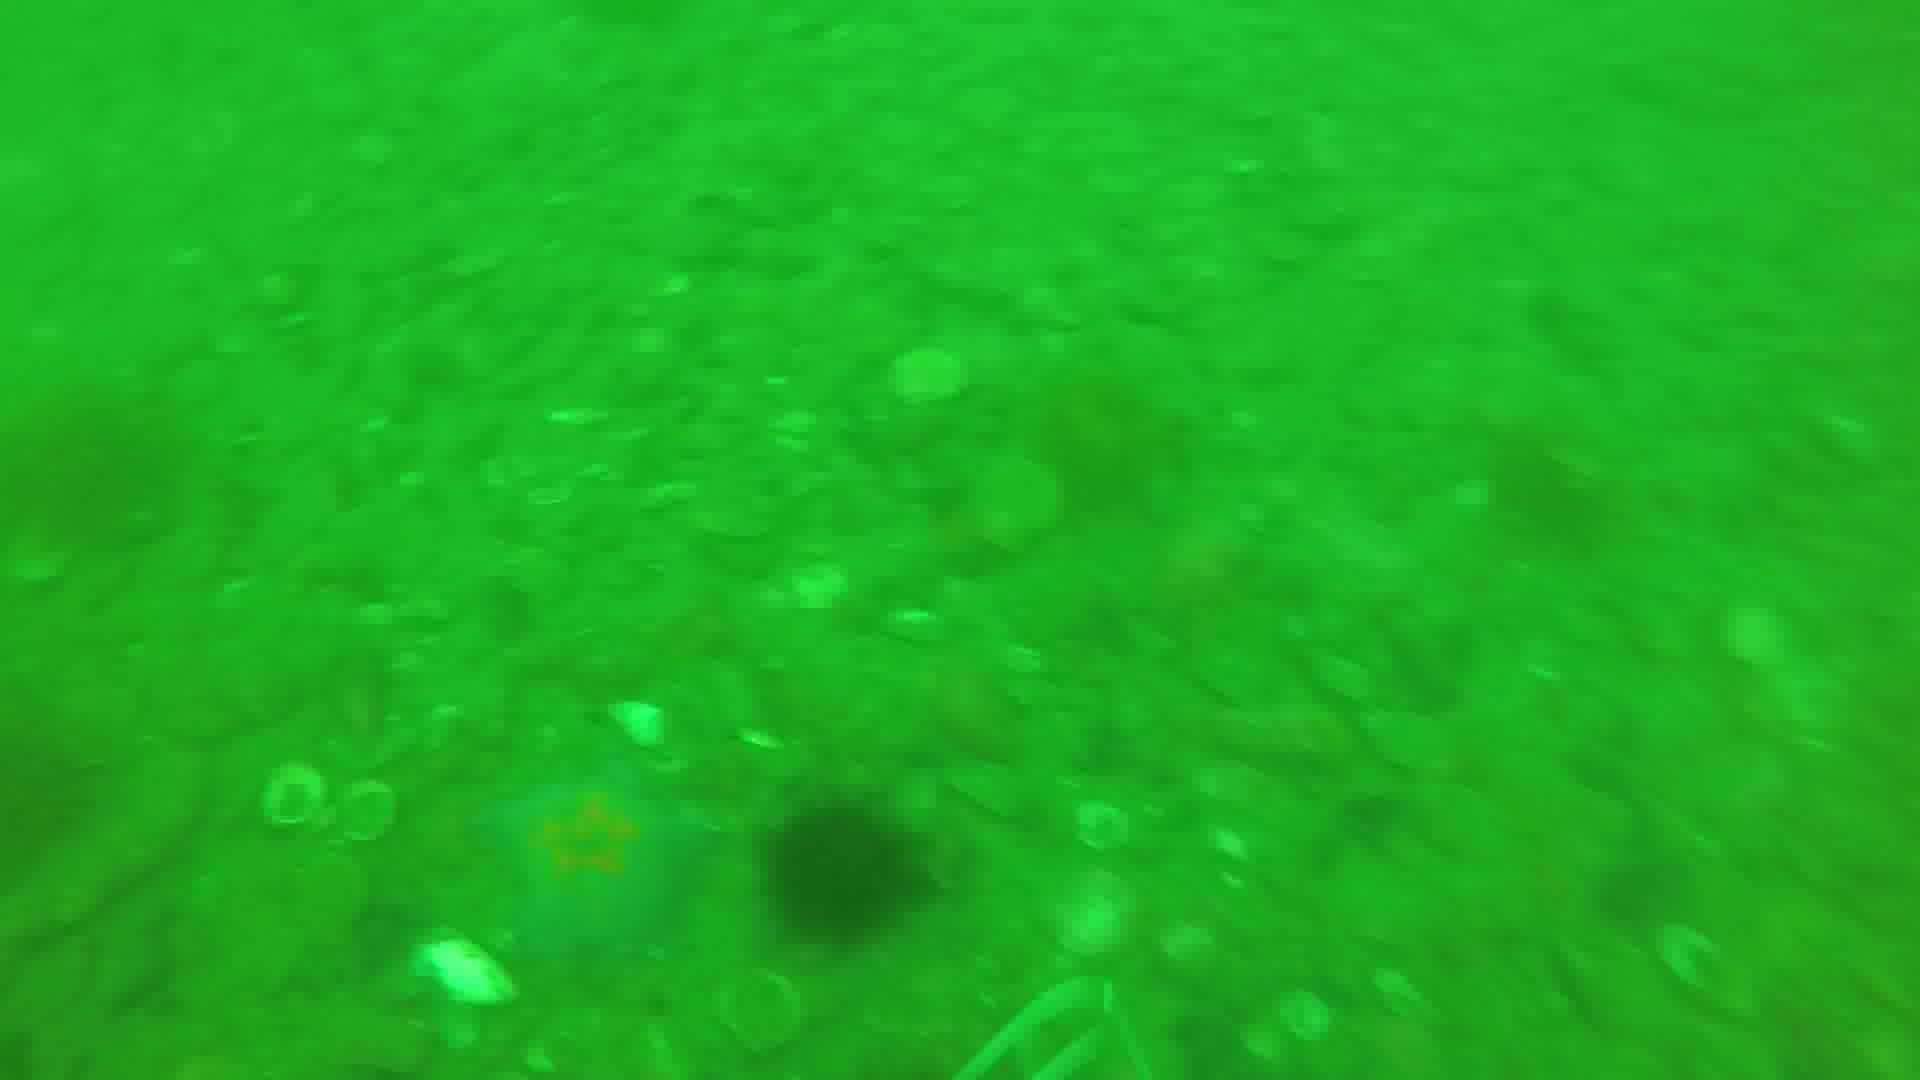echinus: (744, 800, 939, 938)
holothurian: (142, 996, 425, 1080)
scallop: (400, 928, 527, 1038), (1665, 924, 1770, 1029), (266, 760, 392, 841), (1035, 876, 1151, 960), (1079, 803, 1129, 849)
starfish: (501, 756, 704, 975)
